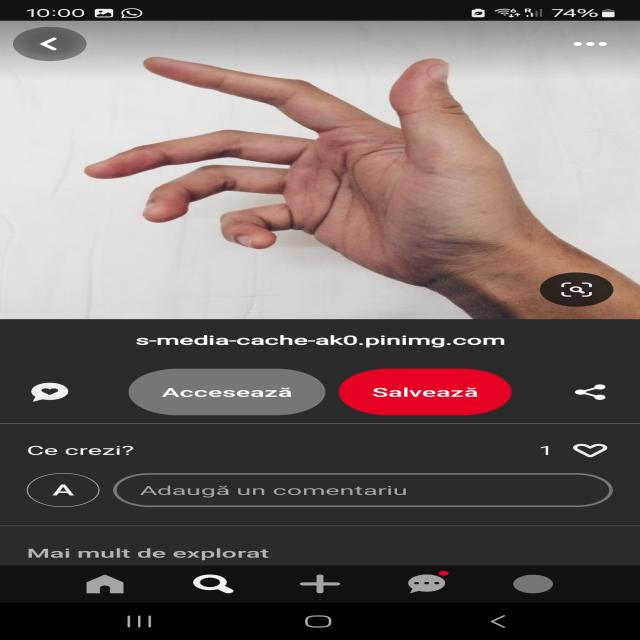hands: (67, 30, 530, 302)
